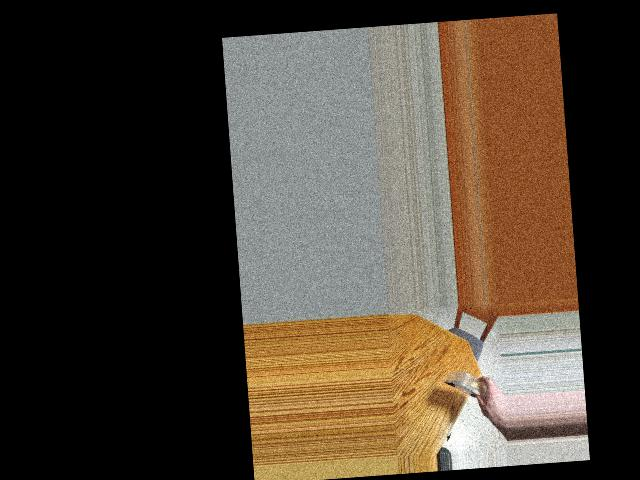cheese: (444, 369, 489, 399)
